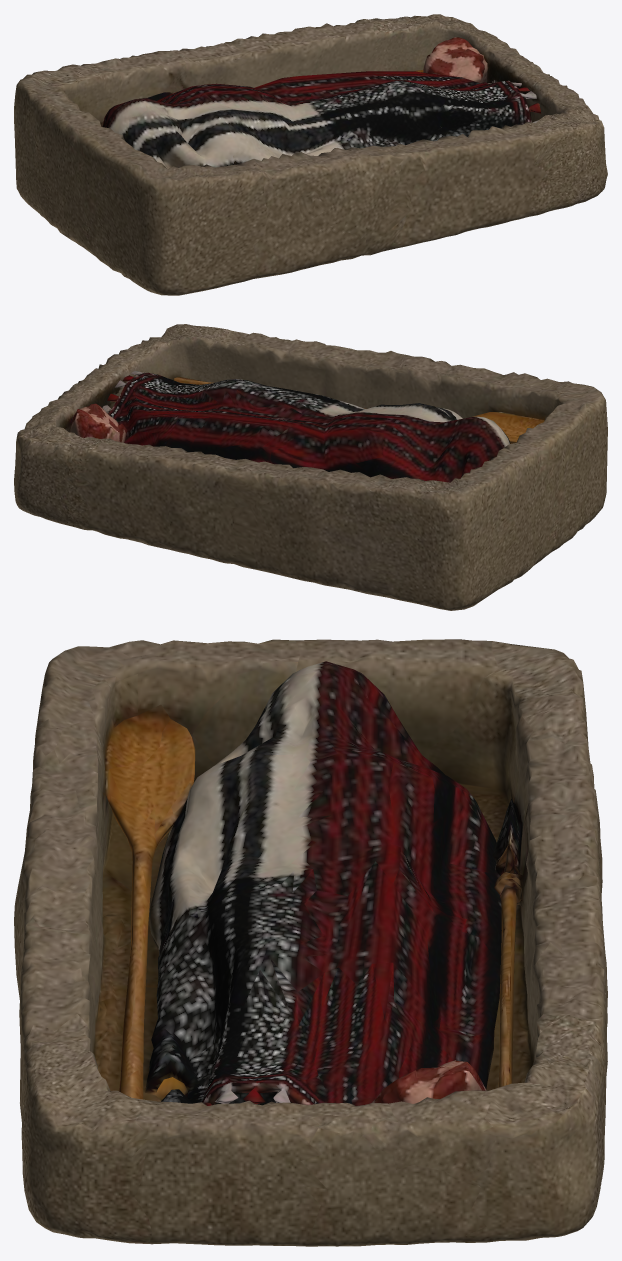
File: Kagamitan-512(10k).glb
3 renders of one model, top to bottom at view 1: azimuth 30°, elevation 25°; view 2: azimuth 150°, elevation 25°; view 3: azimuth 270°, elevation 25°, orthographic. The views are drawn at different scales.
Visible parts, largest first — view 1: tripo_node_273549f8-24c6-4028-8014-6e59ab420faf; view 2: tripo_node_273549f8-24c6-4028-8014-6e59ab420faf; view 3: tripo_node_273549f8-24c6-4028-8014-6e59ab420faf.
Part boxes in pixels (<box>): tripo_node_273549f8-24c6-4028-8014-6e59ab420faf: <box>14,14,607,295</box>; tripo_node_273549f8-24c6-4028-8014-6e59ab420faf: <box>14,324,607,610</box>; tripo_node_273549f8-24c6-4028-8014-6e59ab420faf: <box>14,639,607,1246</box>.
Bounding box in the file's own units: 0.9803 × 0.266 × 0.6036.
Materials: 1 (1 with a texture image).
